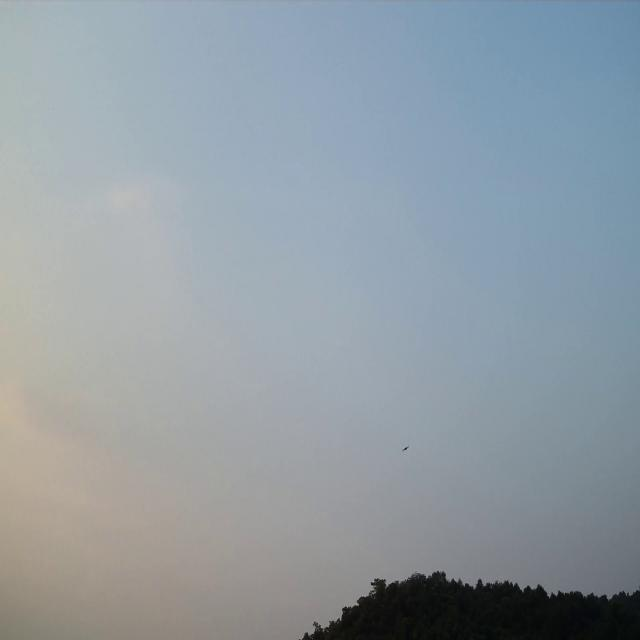UAV: (402, 445, 410, 452)
